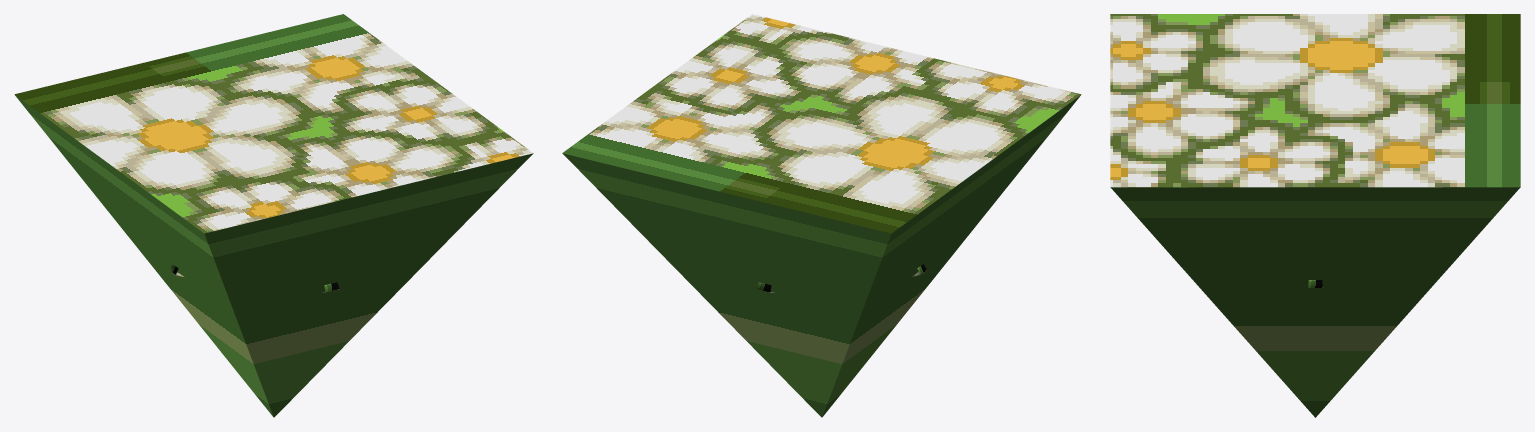
The picture shows the model from 3 angles, left to right: view 1: azimuth 30°, elevation 25°; view 2: azimuth 150°, elevation 25°; view 3: azimuth 270°, elevation 25°; orthographic projection. The views are drawn at different scales.
Parts seen in each view (by area): view 1: 3611kg_22_ta0; view 2: 3611kg_22_ta0; view 3: 3611kg_22_ta0.
Boxes of the visible parts, <box> form: 3611kg_22_ta0: <box>14,14,533,417</box>; 3611kg_22_ta0: <box>562,14,1081,417</box>; 3611kg_22_ta0: <box>1110,14,1520,417</box>.
Bounding box in the file's own units: 1.95 × 1.67 × 1.95.
1 material, 1 textured.
